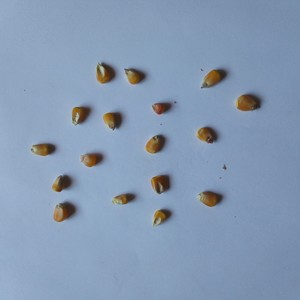maiz: (200, 67, 224, 91), (233, 92, 259, 113), (194, 124, 217, 145), (144, 132, 164, 155), (194, 189, 219, 207), (102, 109, 122, 131), (148, 174, 168, 195), (94, 62, 112, 85), (50, 174, 70, 194), (69, 105, 86, 127), (52, 201, 68, 224), (150, 100, 170, 118), (151, 208, 169, 228), (79, 152, 101, 168), (28, 141, 51, 156), (123, 67, 142, 85), (111, 191, 130, 207)
